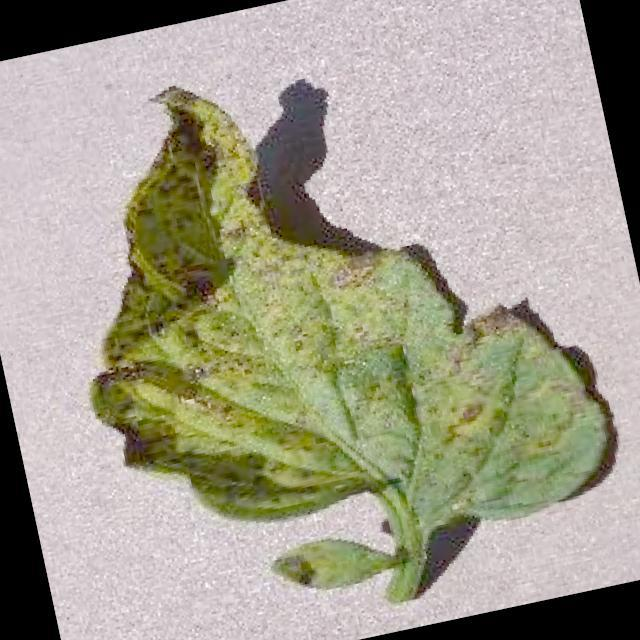Tomato Septoria spot leaf: (34, 9, 623, 598)
